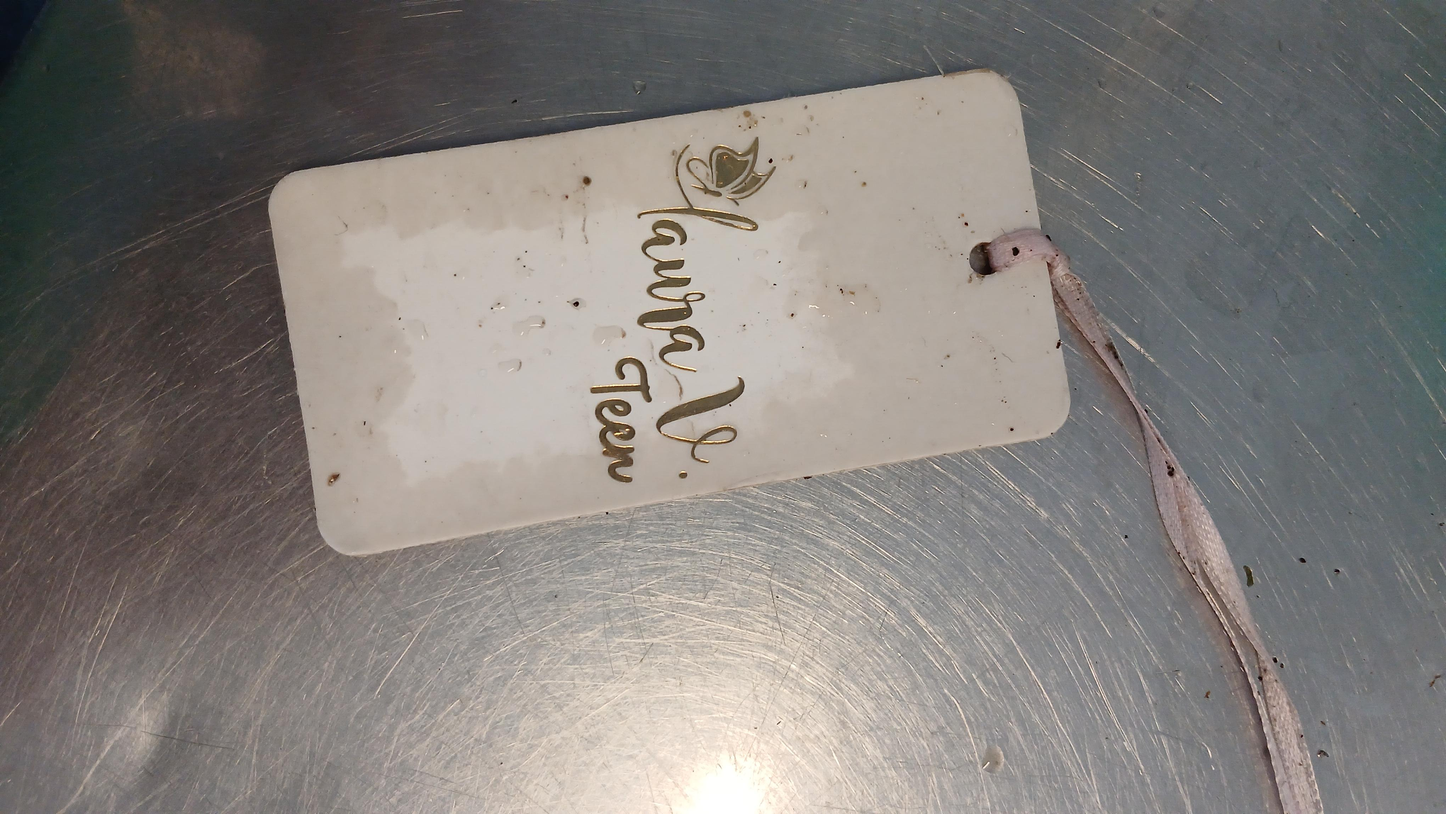Ordinario: (266, 69, 1077, 559)
